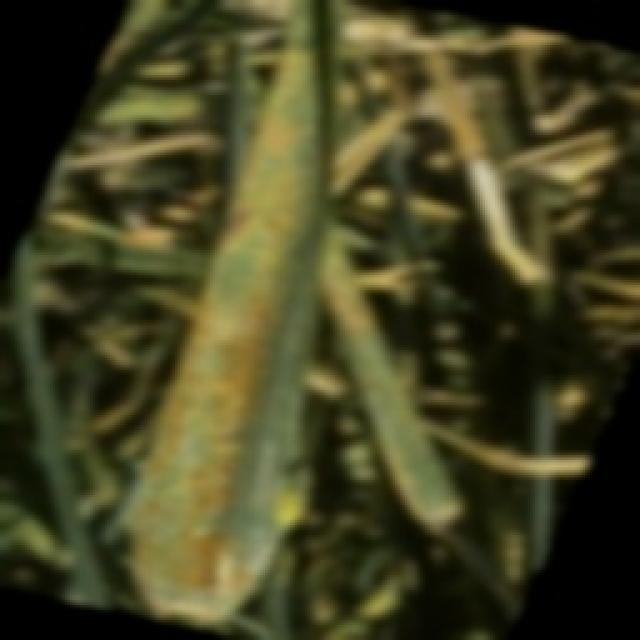Elderberry_rust: (195, 5, 365, 640)
